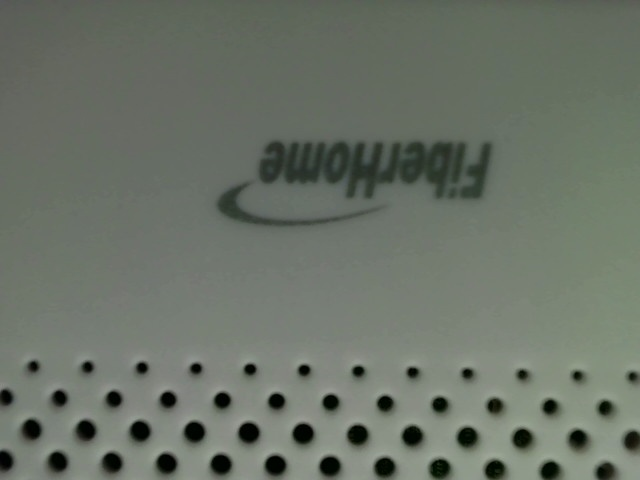AI_FiberHome: (204, 127, 502, 241)
